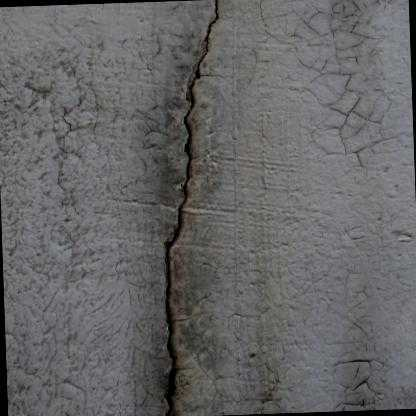crack: (165, 0, 217, 416)
